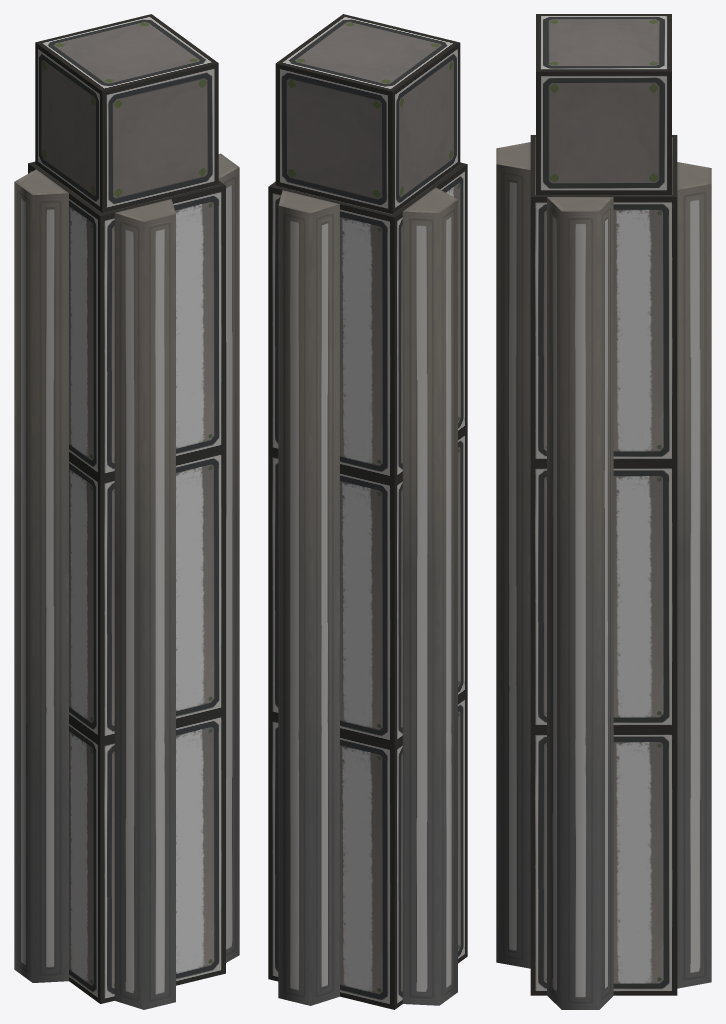
Rendered from Sci-Fi_Prefab_Var1.fbx.
The picture shows the model from 3 angles, left to right: view 1: azimuth 30°, elevation 25°; view 2: azimuth 150°, elevation 25°; view 3: azimuth 270°, elevation 25°; orthographic projection.
Visible parts, largest first — view 1: ProjectRG_Environment_Sci-Fi_TallTowerSupport.008, ProjectRG_Environment_Sci-Fi_TallTowerSupport.006, ProjectRG_Environment_Sci-Fi_ModBlock_Norm.001, ProjectRG_Environment_Sci-Fi_ModBlock_Tall.019, ProjectRG_Environment_Sci-Fi_ModBlock_Tall.017, ProjectRG_Environment_Sci-Fi_ModBlock_Tall.018, ProjectRG_Environment_Sci-Fi_TallTowerSupport.005; view 2: ProjectRG_Environment_Sci-Fi_TallTowerSupport.007, ProjectRG_Environment_Sci-Fi_TallTowerSupport.006, ProjectRG_Environment_Sci-Fi_ModBlock_Norm.001, ProjectRG_Environment_Sci-Fi_ModBlock_Tall.019, ProjectRG_Environment_Sci-Fi_ModBlock_Tall.017, ProjectRG_Environment_Sci-Fi_ModBlock_Tall.018; view 3: ProjectRG_Environment_Sci-Fi_TallTowerSupport.005, ProjectRG_Environment_Sci-Fi_TallTowerSupport.007, ProjectRG_Environment_Sci-Fi_TallTowerSupport.008, ProjectRG_Environment_Sci-Fi_ModBlock_Norm.001, ProjectRG_Environment_Sci-Fi_ModBlock_Tall.019, ProjectRG_Environment_Sci-Fi_ModBlock_Tall.017, ProjectRG_Environment_Sci-Fi_ModBlock_Tall.018.
Boxes of the visible parts, left/top/right/bottom form: ProjectRG_Environment_Sci-Fi_TallTowerSupport.008: left=114, top=199, right=175, bottom=1009; ProjectRG_Environment_Sci-Fi_TallTowerSupport.006: left=14, top=169, right=68, bottom=982; ProjectRG_Environment_Sci-Fi_ModBlock_Norm.001: left=35, top=14, right=218, bottom=213; ProjectRG_Environment_Sci-Fi_ModBlock_Tall.019: left=28, top=161, right=225, bottom=478; ProjectRG_Environment_Sci-Fi_ModBlock_Tall.017: left=69, top=711, right=225, bottom=1003; ProjectRG_Environment_Sci-Fi_ModBlock_Tall.018: left=69, top=448, right=225, bottom=741; ProjectRG_Environment_Sci-Fi_TallTowerSupport.005: left=218, top=153, right=239, bottom=962; ProjectRG_Environment_Sci-Fi_TallTowerSupport.007: left=278, top=190, right=339, bottom=1005; ProjectRG_Environment_Sci-Fi_TallTowerSupport.006: left=402, top=187, right=457, bottom=1005; ProjectRG_Environment_Sci-Fi_ModBlock_Norm.001: left=275, top=14, right=460, bottom=214; ProjectRG_Environment_Sci-Fi_ModBlock_Tall.019: left=268, top=162, right=467, bottom=481; ProjectRG_Environment_Sci-Fi_ModBlock_Tall.017: left=268, top=692, right=467, bottom=1009; ProjectRG_Environment_Sci-Fi_ModBlock_Tall.018: left=268, top=428, right=467, bottom=745; ProjectRG_Environment_Sci-Fi_TallTowerSupport.005: left=547, top=197, right=613, bottom=1009; ProjectRG_Environment_Sci-Fi_TallTowerSupport.007: left=677, top=162, right=711, bottom=988; ProjectRG_Environment_Sci-Fi_TallTowerSupport.008: left=496, top=142, right=530, bottom=968; ProjectRG_Environment_Sci-Fi_ModBlock_Norm.001: left=536, top=14, right=671, bottom=194; ProjectRG_Environment_Sci-Fi_ModBlock_Tall.019: left=530, top=135, right=677, bottom=463; ProjectRG_Environment_Sci-Fi_ModBlock_Tall.017: left=530, top=729, right=677, bottom=995; ProjectRG_Environment_Sci-Fi_ModBlock_Tall.018: left=530, top=463, right=677, bottom=729.
Size of the model in its own units: 732 by 3464 by 732.
